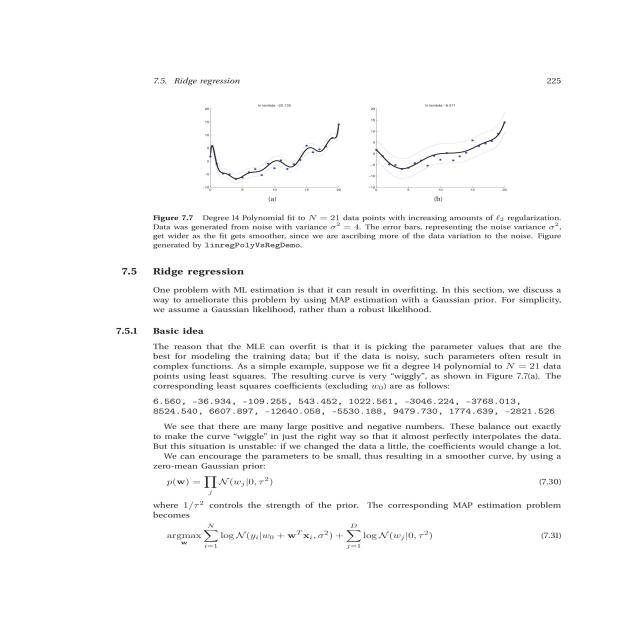diagram: (128, 69, 618, 257)
